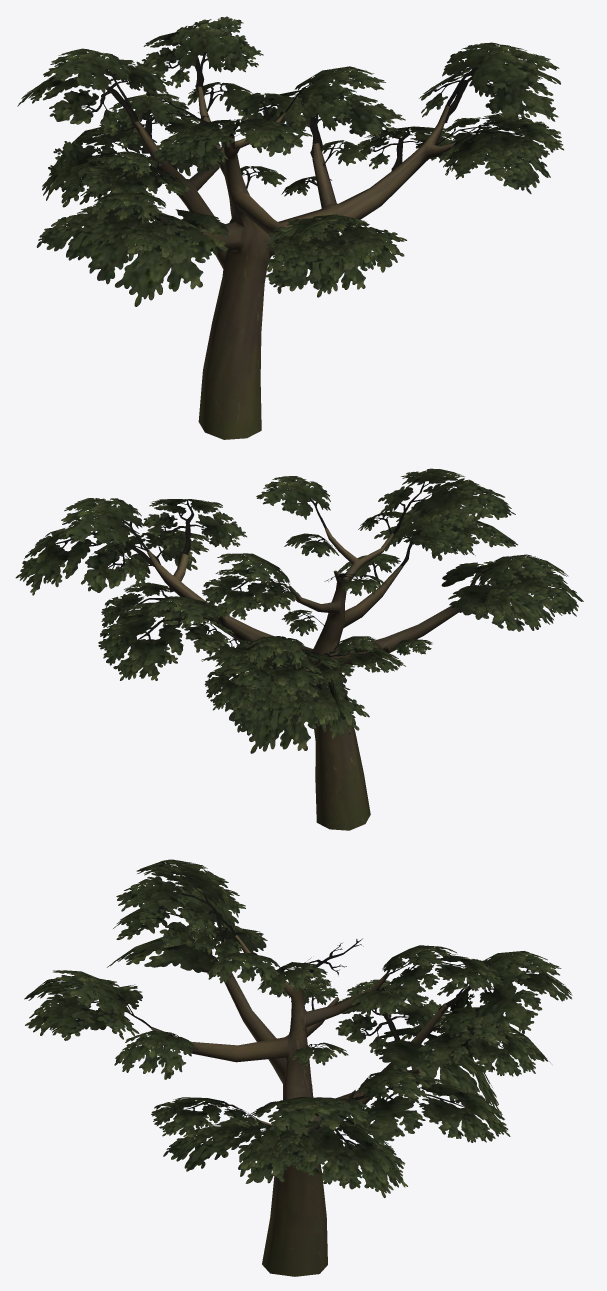
3 views of the same model, one above another, from view 1: azimuth 30°, elevation 25°; view 2: azimuth 150°, elevation 25°; view 3: azimuth 270°, elevation 25° (orthographic). The views are drawn at different scales.
Visible parts, largest first — view 1: body0_model0_lod0_mesh1, body0_model0_lod0_mesh0; view 2: body0_model0_lod0_mesh1, body0_model0_lod0_mesh0; view 3: body0_model0_lod0_mesh1, body0_model0_lod0_mesh0.
Part boxes in pixels (x1,y1,x2,y2): body0_model0_lod0_mesh1: [17, 16, 563, 306]; body0_model0_lod0_mesh0: [134, 86, 455, 439]; body0_model0_lod0_mesh1: [15, 468, 583, 753]; body0_model0_lod0_mesh0: [147, 528, 478, 830]; body0_model0_lod0_mesh1: [24, 859, 572, 1197]; body0_model0_lod0_mesh0: [151, 935, 447, 1276].
Bounding box in the file's own units: 1112 × 640 × 937.
Materials: 2 (2 with a texture image).
